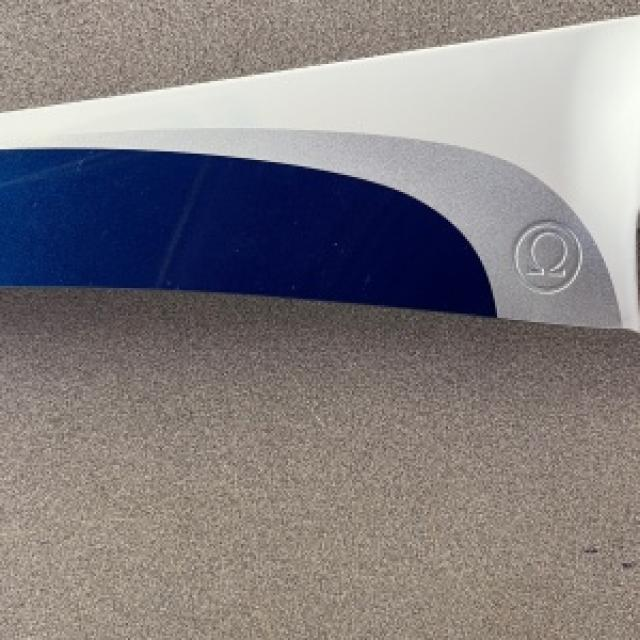healthy: (0, 19, 638, 241), (420, 0, 638, 36)
